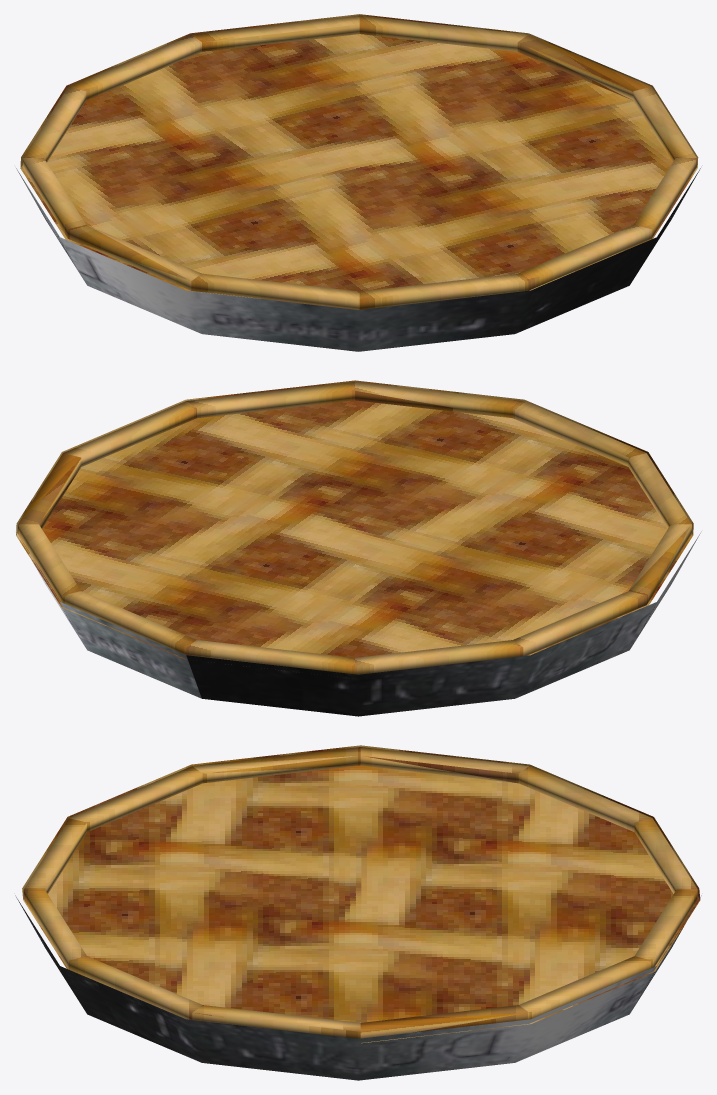
The model's file is applepie.glb.
3 renders of one model, top to bottom at view 1: azimuth 30°, elevation 25°; view 2: azimuth 150°, elevation 25°; view 3: azimuth 270°, elevation 25°, orthographic.
Visible parts, largest first — view 1: applepie.ms3d.mo; view 2: applepie.ms3d.mo; view 3: applepie.ms3d.mo.
Boxes of the visible parts, left/top/right/bottom form: applepie.ms3d.mo: left=16, top=14, right=700, bottom=351; applepie.ms3d.mo: left=15, top=380, right=701, bottom=716; applepie.ms3d.mo: left=15, top=745, right=701, bottom=1080.
Size of the model in its own units: 33.55 by 3.27 by 33.55.
2 materials, 2 textured.
